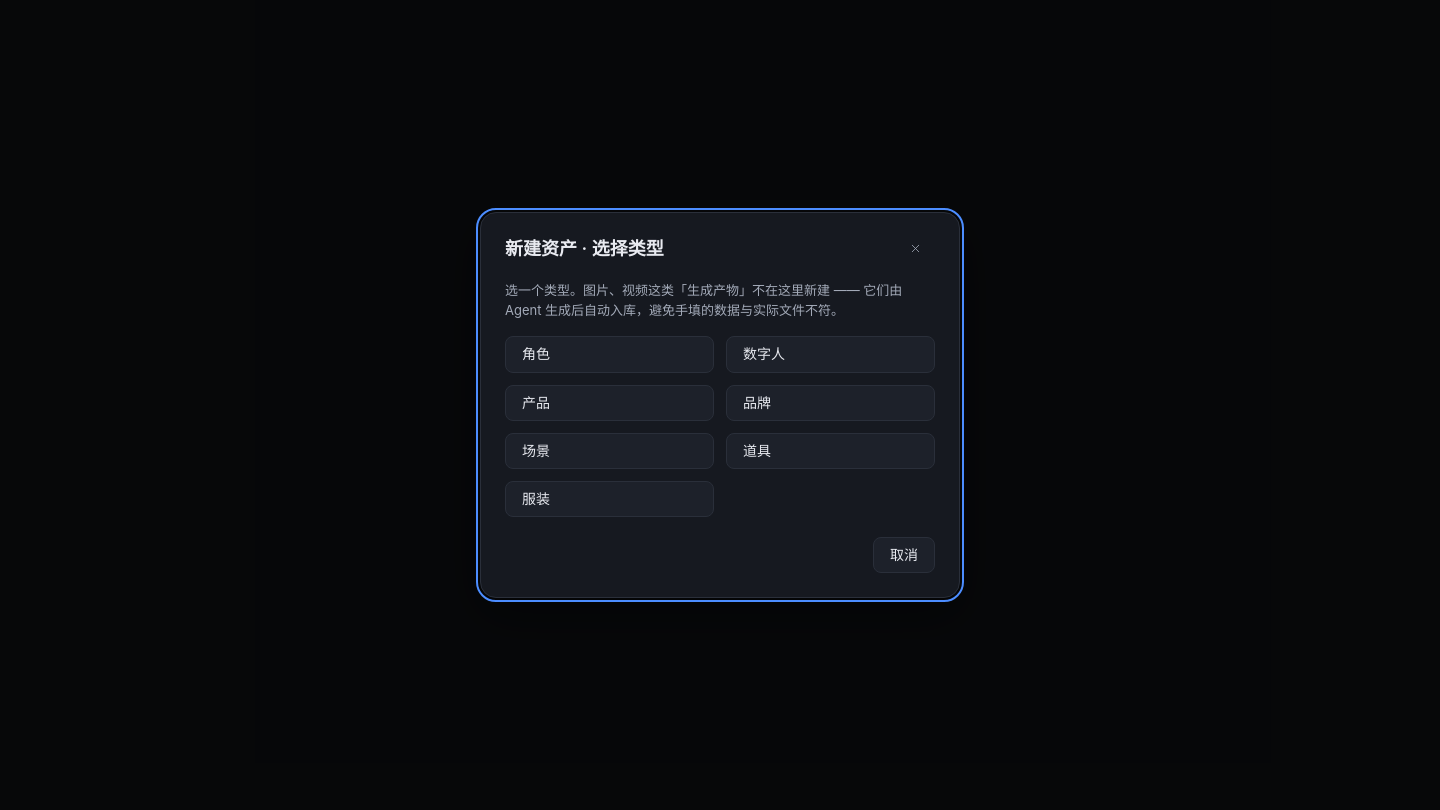
Test case: AssetCreateDialog 的提交 › 失败时保留已填内容，并把后端文案显示出来
Click the button "角色": click(610, 354) [505,336,714,373]
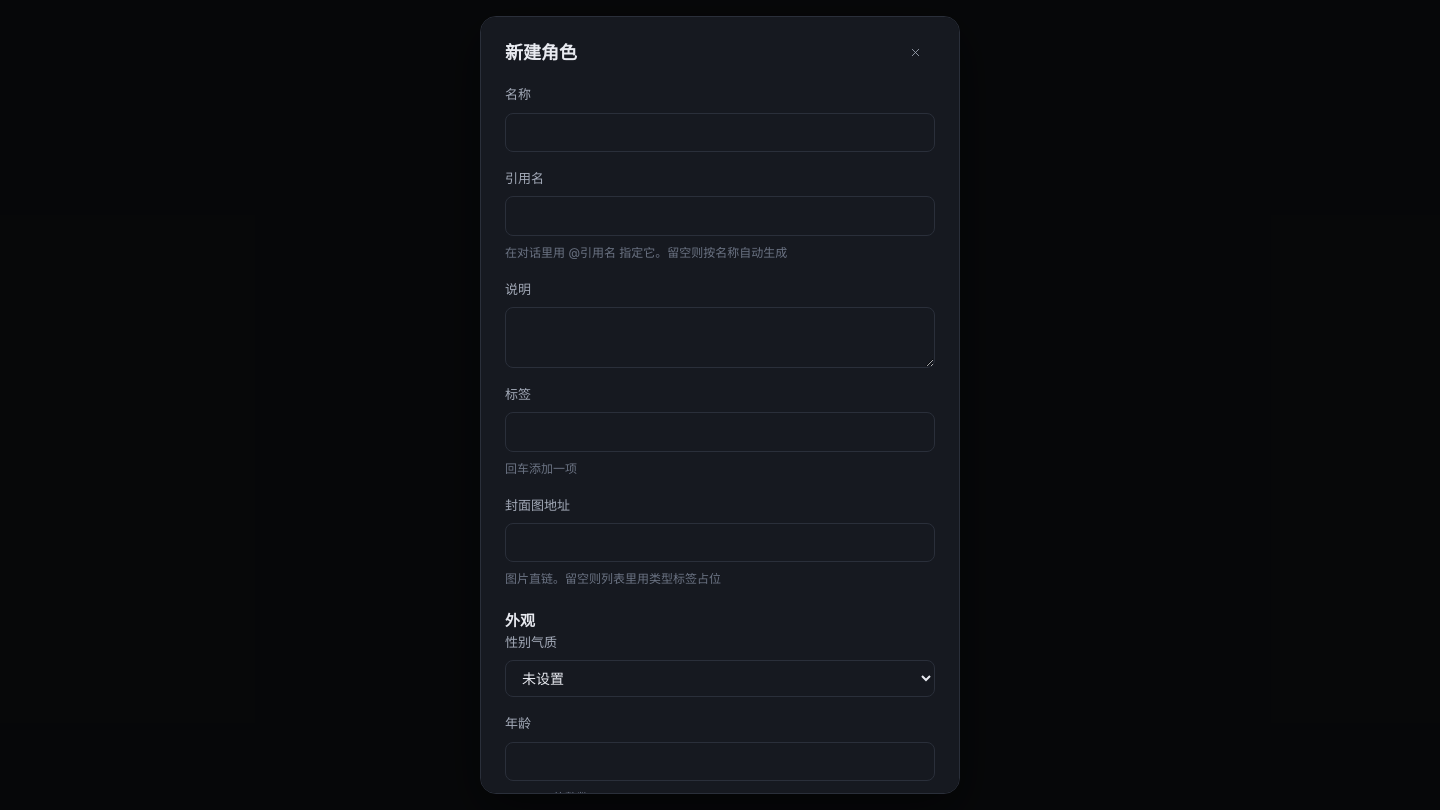
In the field labelled "名称": (720, 132) [505,112,935,152], type "苏晚"
(page scrolled)
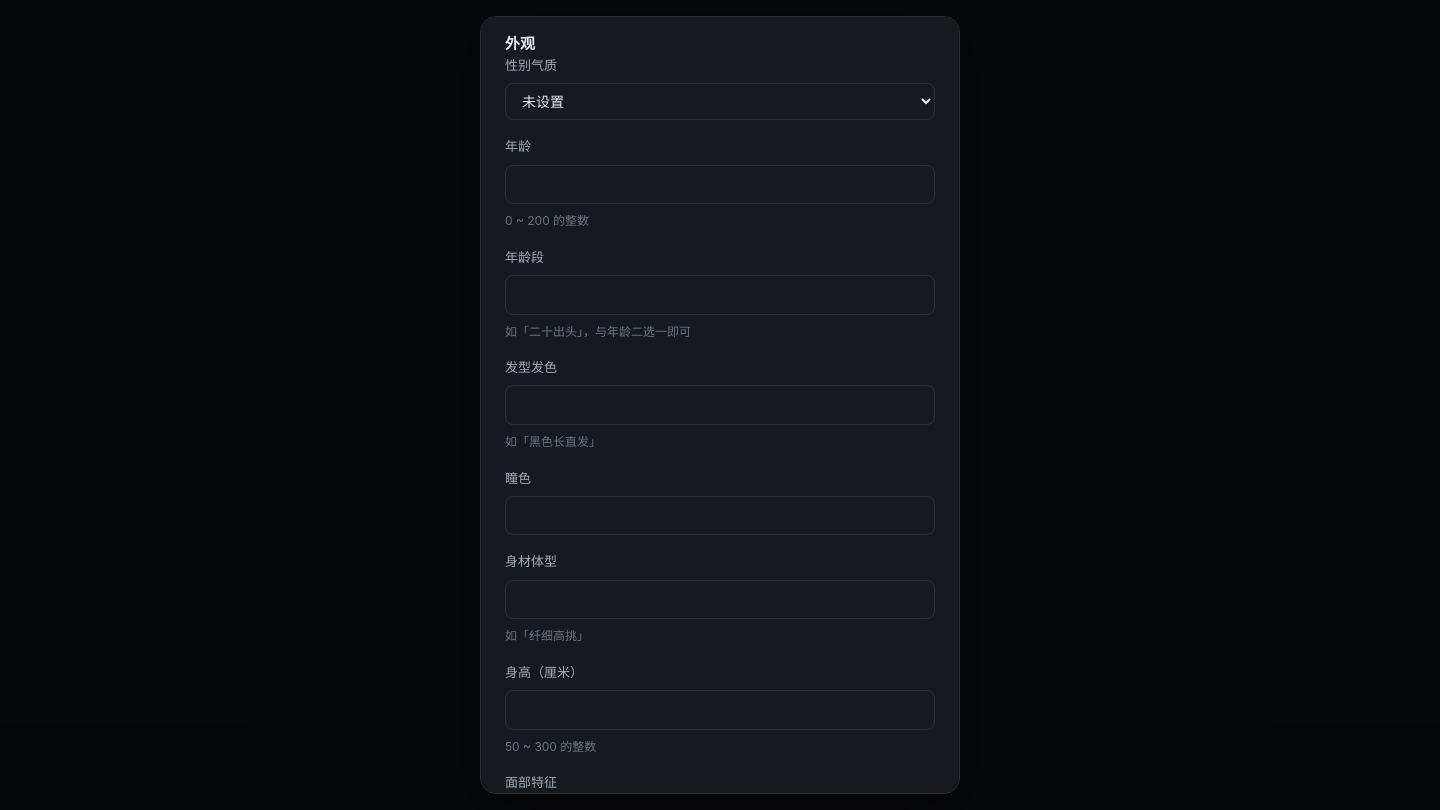
In the field labelled "发型发色": (720, 405) [505,385,935,425], type "黑色长直发"
(page scrolled)
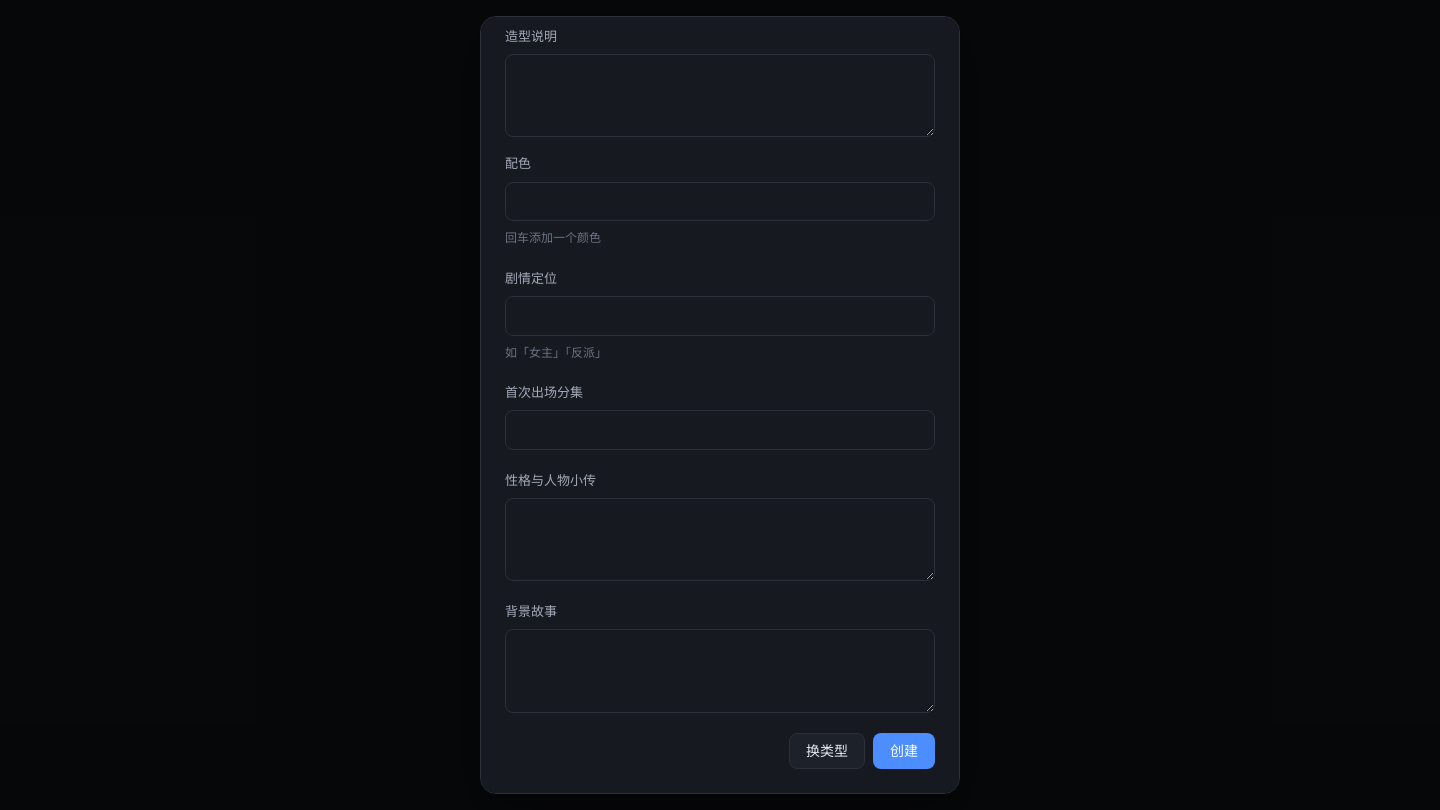
Click the button "创建": click(904, 751) [873,732,935,769]
(page scrolled)
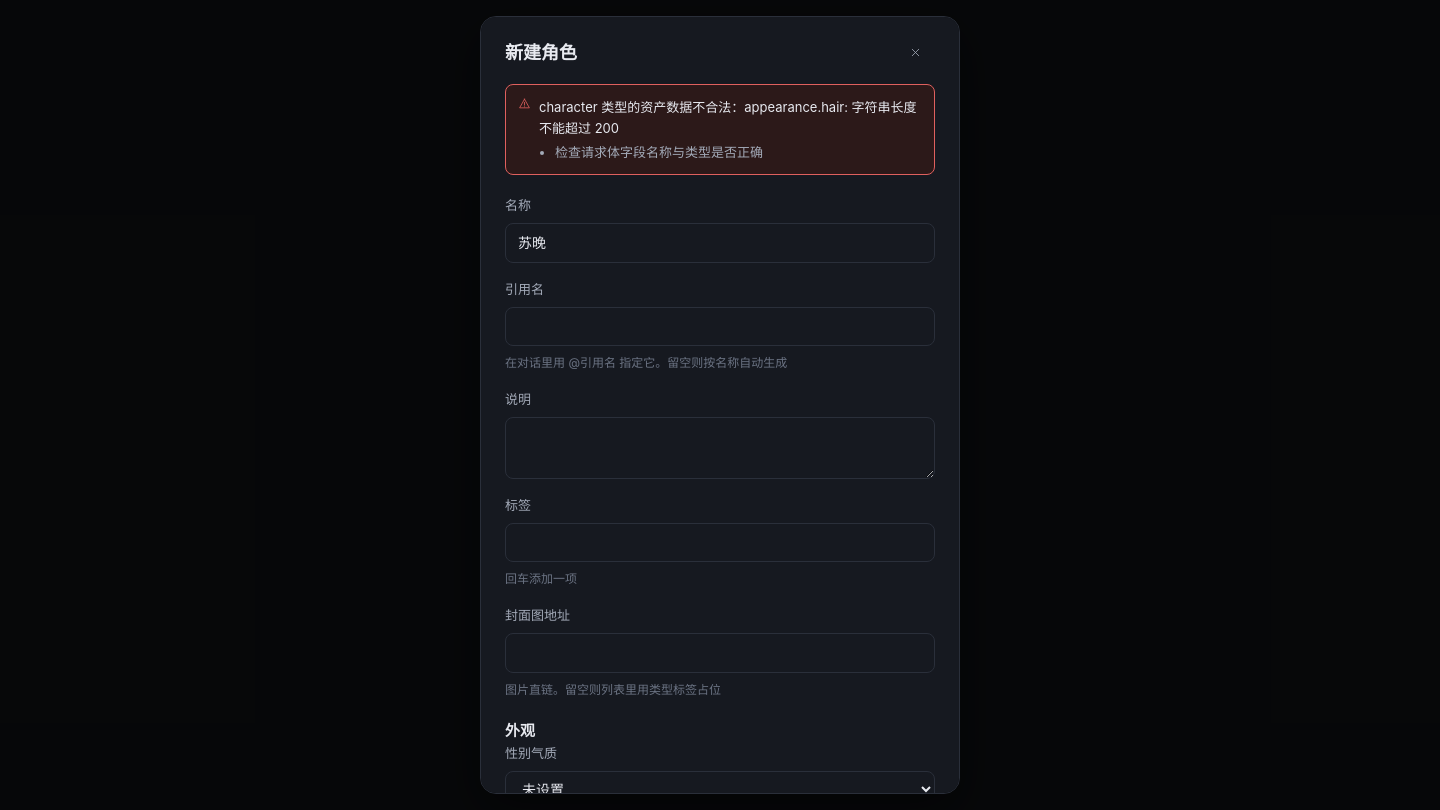
Now the list item "检查请求体字段名称与类型是否正确" is shown, box [555,144,763,160]
